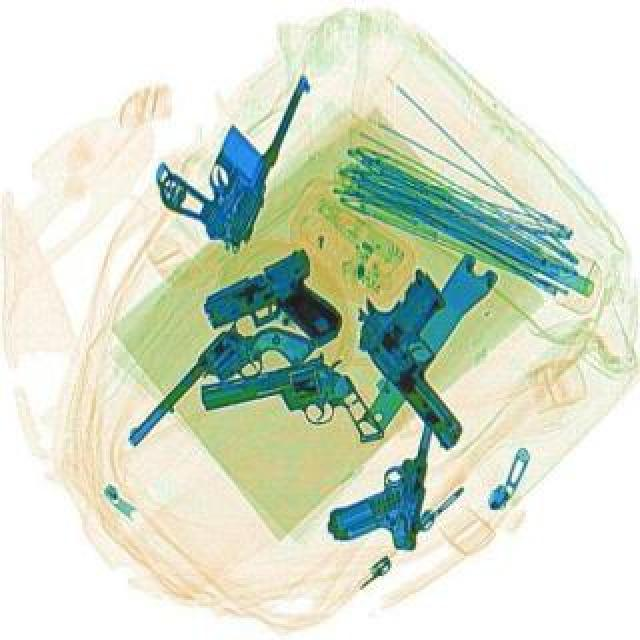gun: (122, 294, 318, 488), (138, 44, 312, 256), (334, 260, 526, 448), (194, 342, 386, 478), (194, 244, 350, 380), (322, 398, 438, 550)
